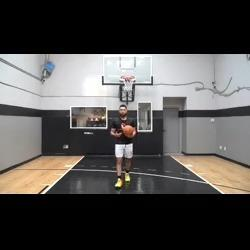BasketBall: (121, 123, 136, 138)
